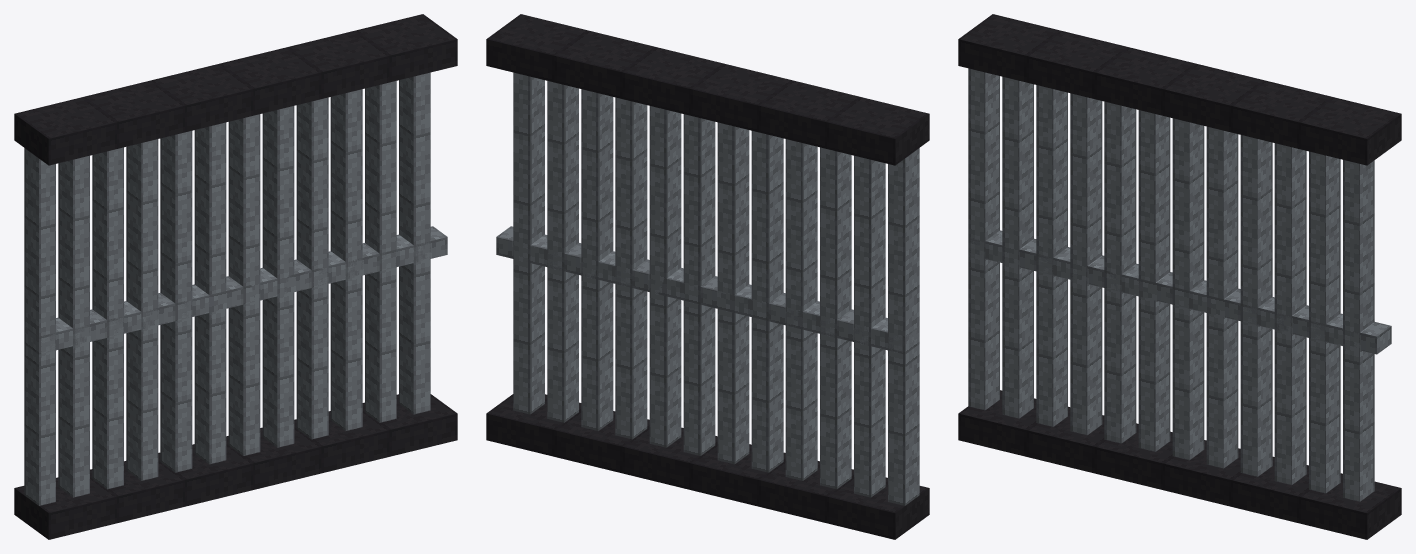
The model's file is prisonCellGate.glb.
The picture shows the model from 3 angles, left to right: view 1: azimuth 30°, elevation 25°; view 2: azimuth 150°, elevation 25°; view 3: azimuth 330°, elevation 25°; orthographic projection.
Parts seen in each view (by area): view 1: prisonCellGate_0; view 2: prisonCellGate_0; view 3: prisonCellGate_0.
Boxes of the visible parts, x1,y1,x2,y2 form: prisonCellGate_0: [14, 14, 457, 539]; prisonCellGate_0: [486, 14, 929, 539]; prisonCellGate_0: [958, 14, 1401, 539].
Size of the model in its own units: 3 by 2.81 by 0.4375.
1 material, 1 textured.
